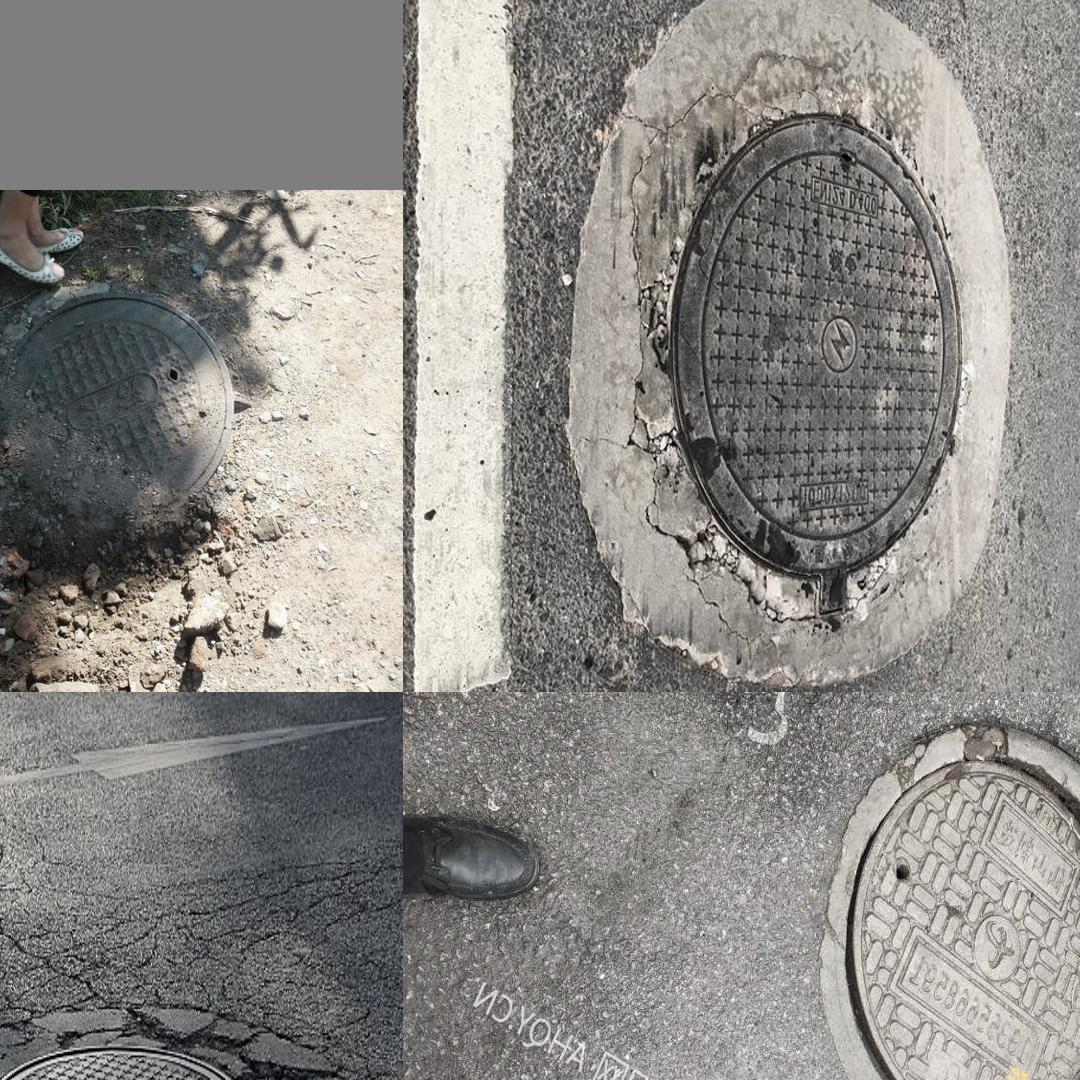circle: (570, 0, 1008, 677), (792, 713, 1080, 1080), (0, 285, 293, 560), (0, 970, 338, 1080)
